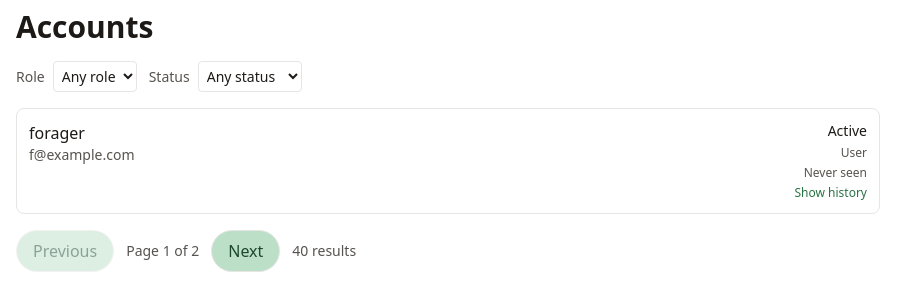
Test: a failed page says so rather than showing the previous one
Click the button "Next".
click(246, 251)  # box [211,230,280,272]
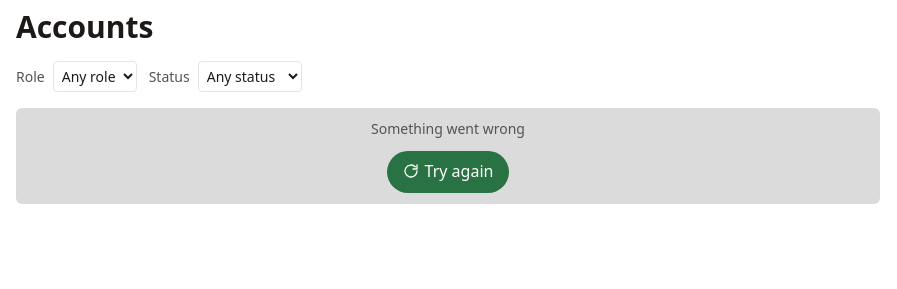
expect the text "Something went wrong" is shown: met, box [371,119,525,139]
expect the text "forager" is gone: met
